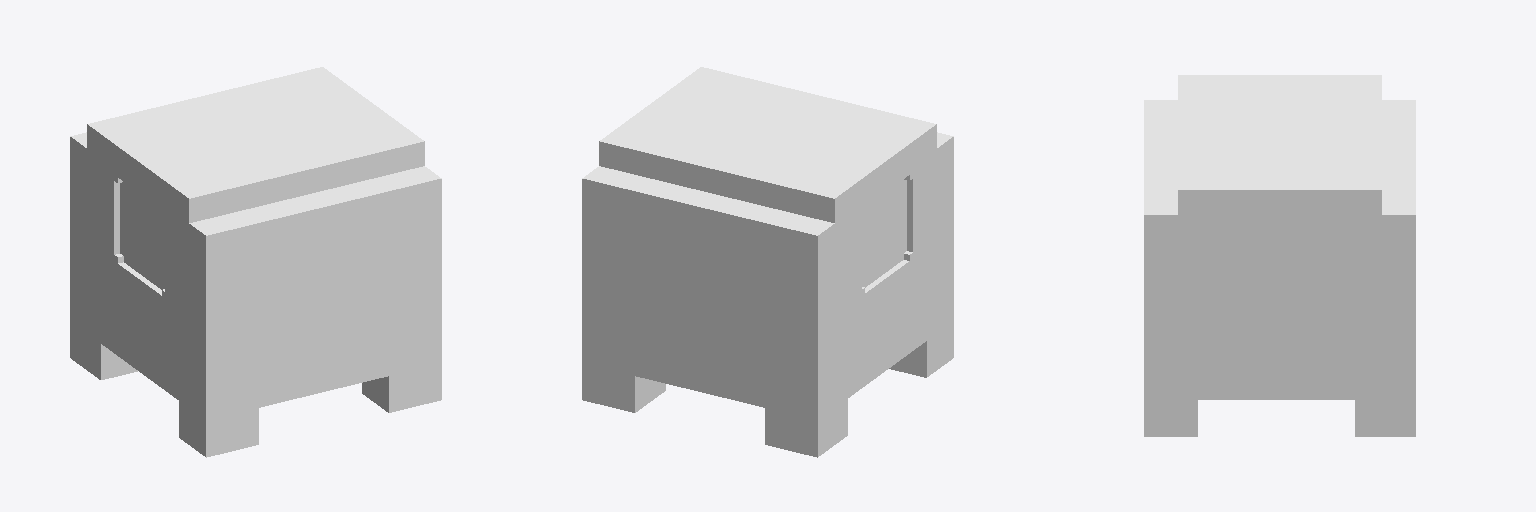
File: enemy3-2.obj
The picture shows the model from 3 angles: view 1: azimuth 30°, elevation 25°; view 2: azimuth 150°, elevation 25°; view 3: azimuth 270°, elevation 25°; orthographic projection.
Visible parts, largest first — view 1: object 1; view 2: object 1; view 3: object 1.
Part boxes in pixels (x1,y1,x2,y2): object 1: (70,67,441,457); object 1: (582,67,953,457); object 1: (1144,75,1415,436).
Size of the model in its own units: 4 by 4 by 4.